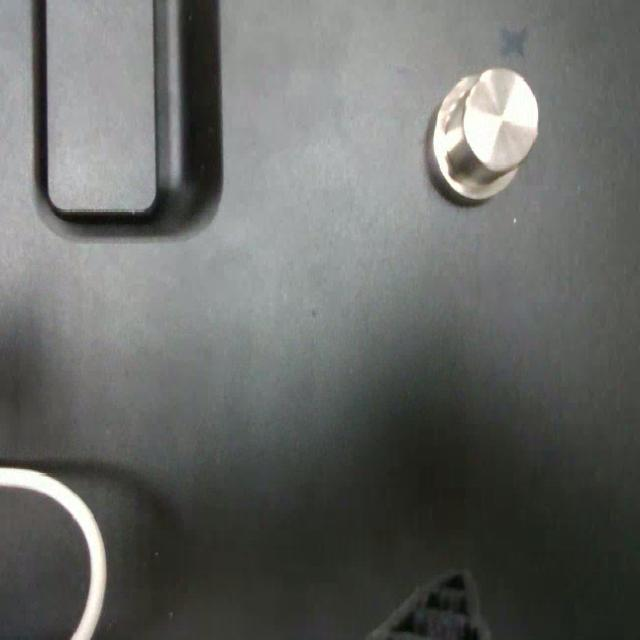sensor: (429, 66, 539, 202)
